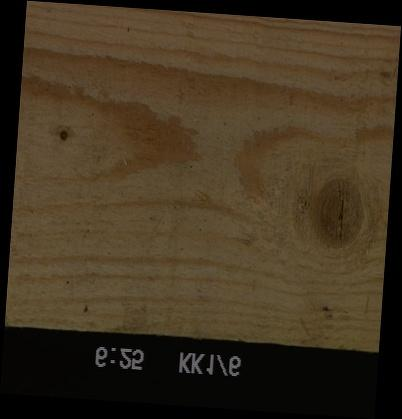small_knot: (55, 127, 71, 143)
sound_knot: (303, 171, 370, 252)
